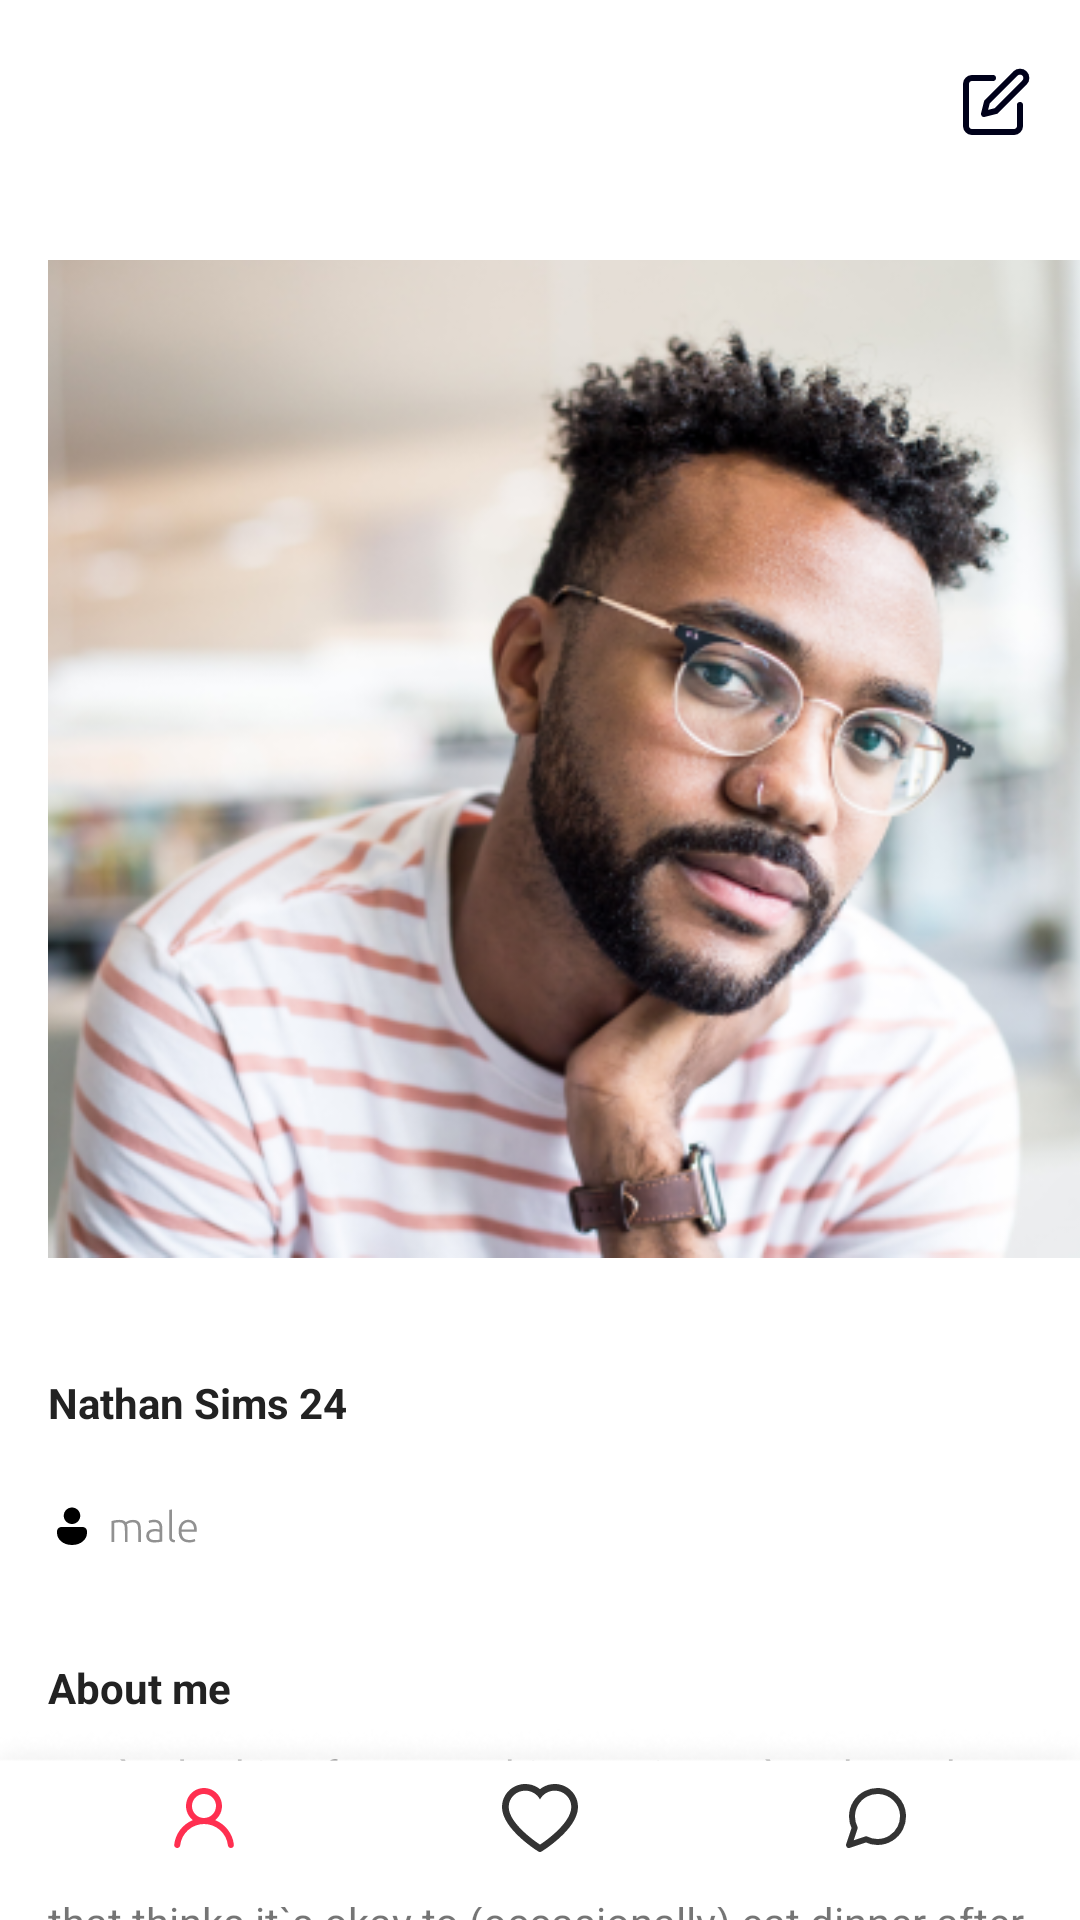

Where to tap for icons on this 1080w x 1920h app screen, as (x,y):
edit: (996,101)
